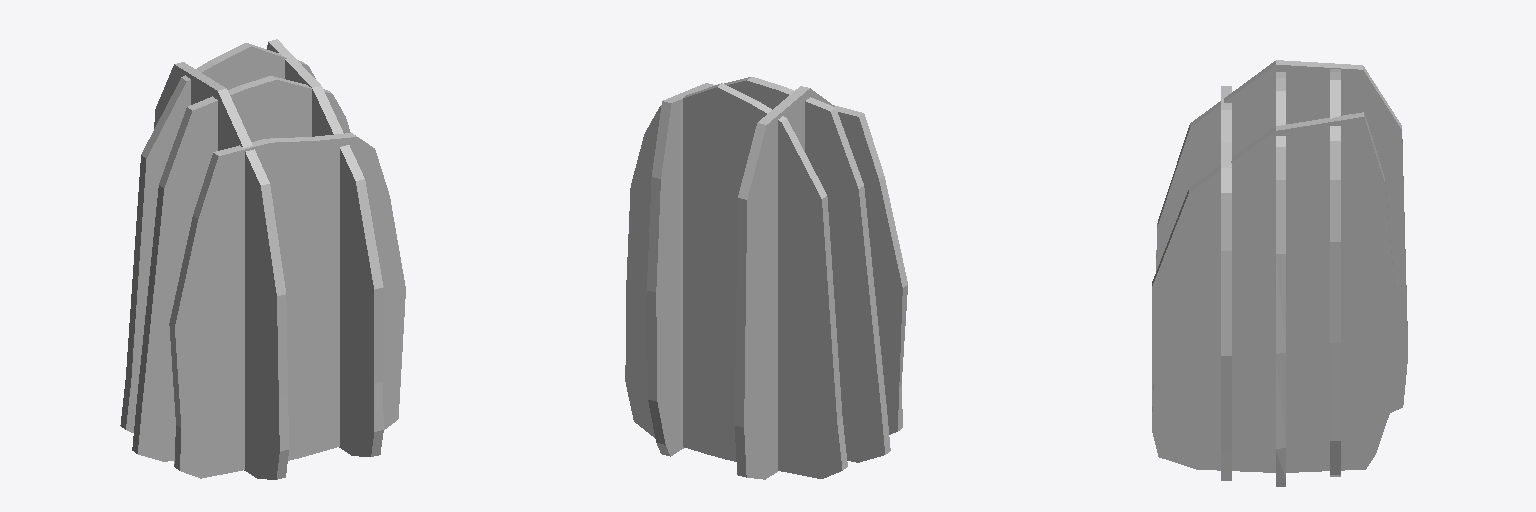
The model's file is slot_rock1.obj.
3 views of the same model, side by side, from view 1: azimuth 30°, elevation 25°; view 2: azimuth 150°, elevation 25°; view 3: azimuth 270°, elevation 25° (orthographic).
Parts seen in each view (by area): view 1: rock.003; view 2: rock.003; view 3: rock.003.
Boxes of the visible parts, x1,y1,x2,y2 form: rock.003: [120, 39, 405, 479]; rock.003: [625, 77, 907, 479]; rock.003: [1152, 60, 1407, 486].
Size of the model in its own units: 1.53 by 2.26 by 1.41.